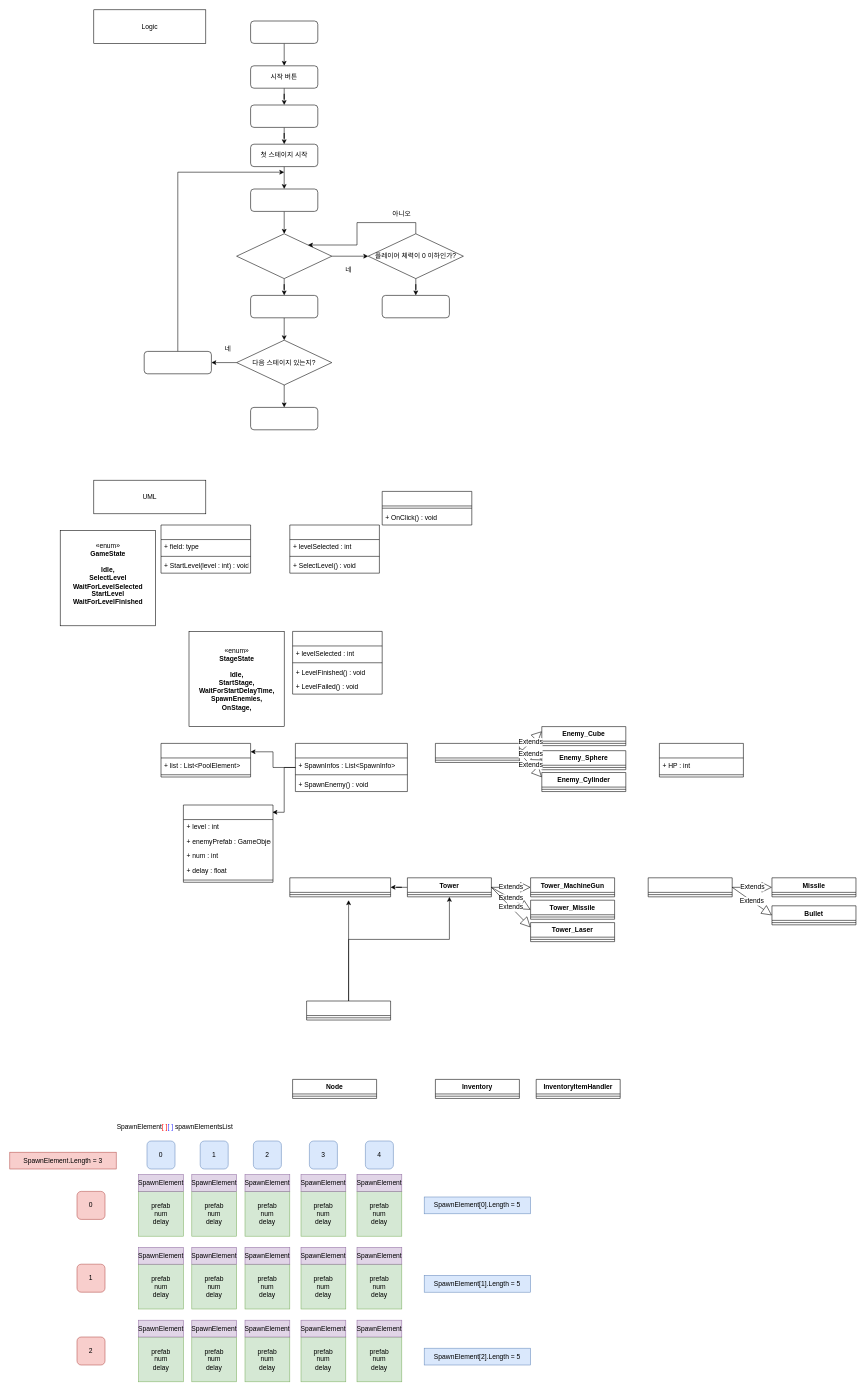
The diagram is 866 pixels wide and 1392 high, and some of its shapes have lost their labels. The box of each missing label's shape, as (x1, y1, x2, y2) in pixels:
Enemy: (435, 743, 519, 762)
EnemySpawner: (295, 743, 407, 792)
GameManager: (160, 524, 251, 573)
LevelSelector: (289, 524, 379, 573)
LevelStartButton: (382, 491, 472, 525)
ObjectPool: (160, 743, 251, 777)
Player: (659, 743, 743, 777)
SpawnInfo: (183, 804, 273, 882)
StageManager: (292, 631, 382, 694)
Tower_Projectile: (648, 877, 732, 897)
TowerAssets: (306, 1000, 391, 1020)
TowerInfo : ScriptableObject: (289, 877, 391, 897)
다음 스테이지: (144, 351, 211, 374)
레벨 선택: (250, 20, 318, 43)
레벨 성공: (250, 407, 318, 430)
레벨 시작: (250, 104, 318, 127)
레벨 실패: (382, 295, 449, 318)
스테이지 성공: (250, 295, 318, 318)
적 생성 시작: (250, 188, 318, 211)
적이 맵에 존재 하는지?: (236, 233, 332, 279)
